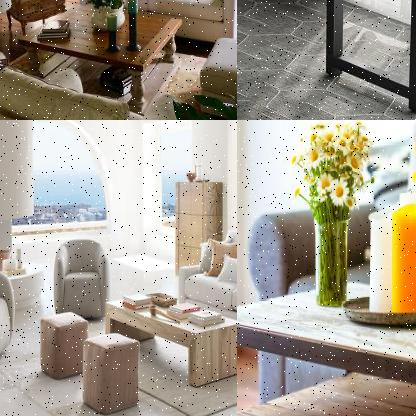table: (237, 274, 415, 415), (237, 0, 415, 119), (12, 0, 186, 119), (101, 287, 236, 395)
